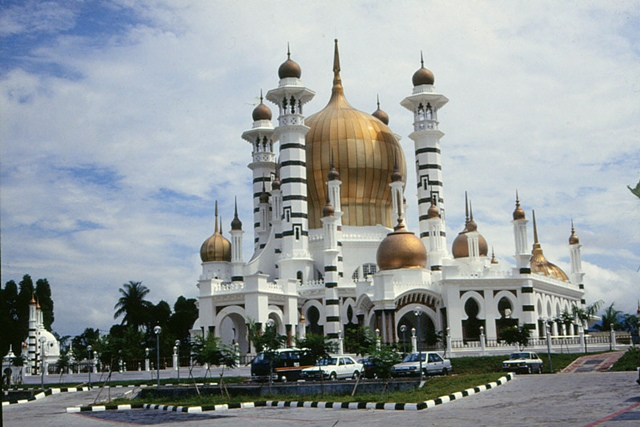Mosque: (169, 40, 582, 348)
